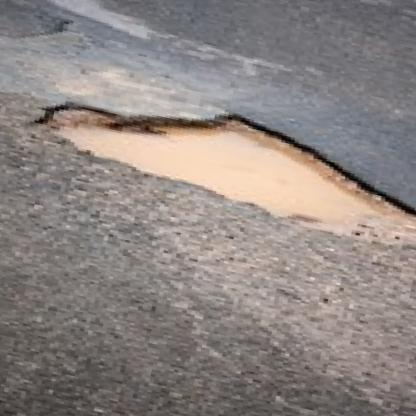pothole: (18, 72, 416, 266)
